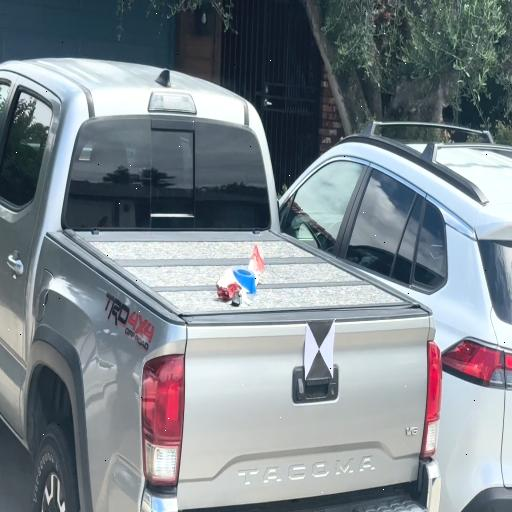target: (304, 320, 334, 380)
